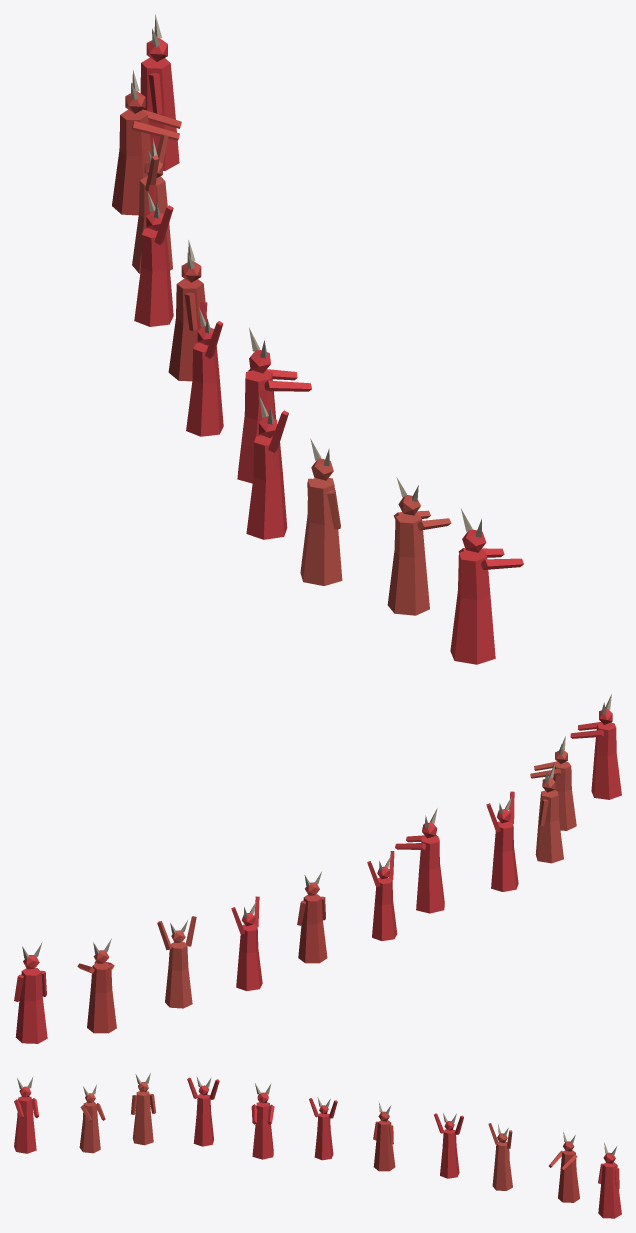
File: Stands_7_0_2_Ice.obj
3 views of the same model, one above another, from view 1: azimuth 30°, elevation 25°; view 2: azimuth 150°, elevation 25°; view 3: azimuth 270°, elevation 25° (orthographic). The views are drawn at different scales.
Parts seen in each view (by area): view 1: Stands_7_0_2_Ice; view 2: Stands_7_0_2_Ice; view 3: Stands_7_0_2_Ice.
Part boxes in pixels (left/top/right/bottom): Stands_7_0_2_Ice: left=112, top=14, right=523, bottom=664; Stands_7_0_2_Ice: left=14, top=694, right=621, bottom=1043; Stands_7_0_2_Ice: left=14, top=1073, right=621, bottom=1218.
Size of the model in its own units: 10.73 by 4.31 by 33.25.
Materials: 1 (1 with a texture image).
